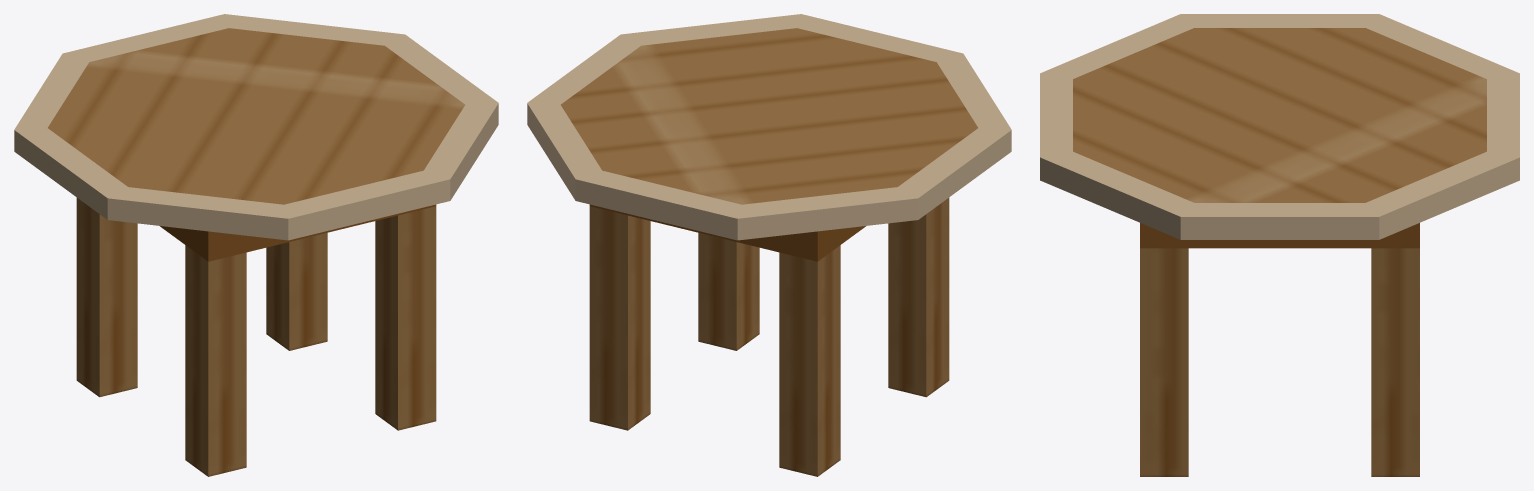
Rendered from wood_round_table.obj.
3 views of the same model, side by side, from view 1: azimuth 30°, elevation 25°; view 2: azimuth 150°, elevation 25°; view 3: azimuth 270°, elevation 25° (orthographic). The views are drawn at different scales.
Parts seen in each view (by area): view 1: Wood_Round_Table; view 2: Wood_Round_Table; view 3: Wood_Round_Table.
Part boxes in pixels (bbox=[...]): Wood_Round_Table: bbox=[14, 14, 498, 476]; Wood_Round_Table: bbox=[527, 14, 1011, 476]; Wood_Round_Table: bbox=[1040, 14, 1519, 476].
Size of the model in its own units: 1.89 by 1.31 by 1.89.
